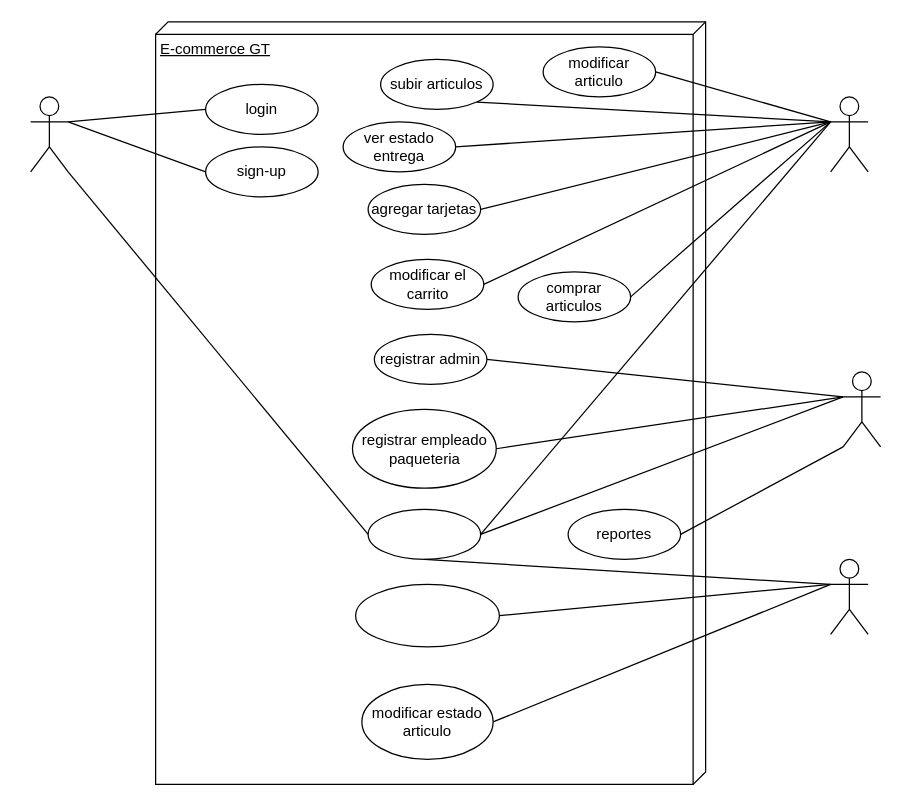
This 906x806 diagram has some shape labels left out. Each missing label, with the centre of its shape:
"aceptar articulos nuevos" belongs at point (426, 615).
"admin" belongs at point (861, 409).
"paqueteria" belongs at point (848, 596).
"usuario" belongs at point (848, 134).
"ver articulos" belongs at point (424, 533).
"visitante" belongs at point (48, 134).
